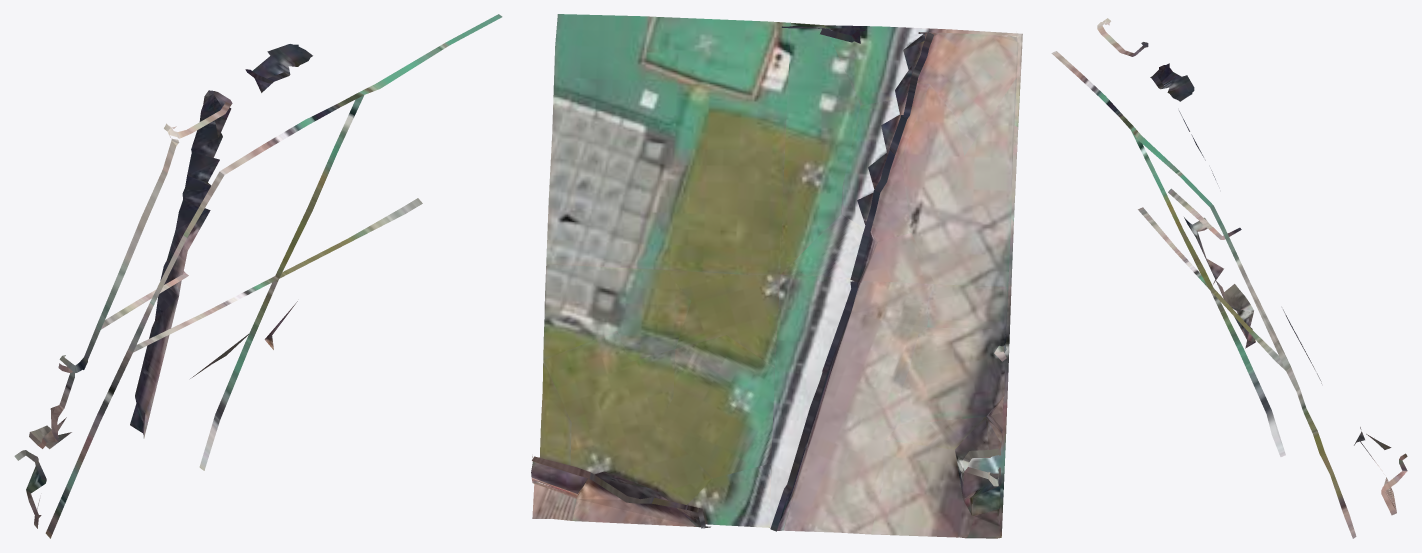
Rendered from AJVsH2wwZwhL6v2J24Ot7nznoxOcnJ1WugNKaBr-IVinpjDk4ET4Kl7ZNsuwtc7DvZjLEEjYH9kzVTsNPoXe0x3fQ8Cr97hX42K3Ms_yD5LZXQBHxyo_XleqA-jp89k-rz0np4tHVhjz6iymsu9Nuu-rn50U.glb.
3 renders of one model, left to right at view 1: azimuth 30°, elevation 25°; view 2: azimuth 150°, elevation 25°; view 3: azimuth 270°, elevation 25°, orthographic. The views are drawn at different scales.
Bounding box in the file's own units: 40.37 × 38.32 × 31.85.
1 material, 1 textured.
